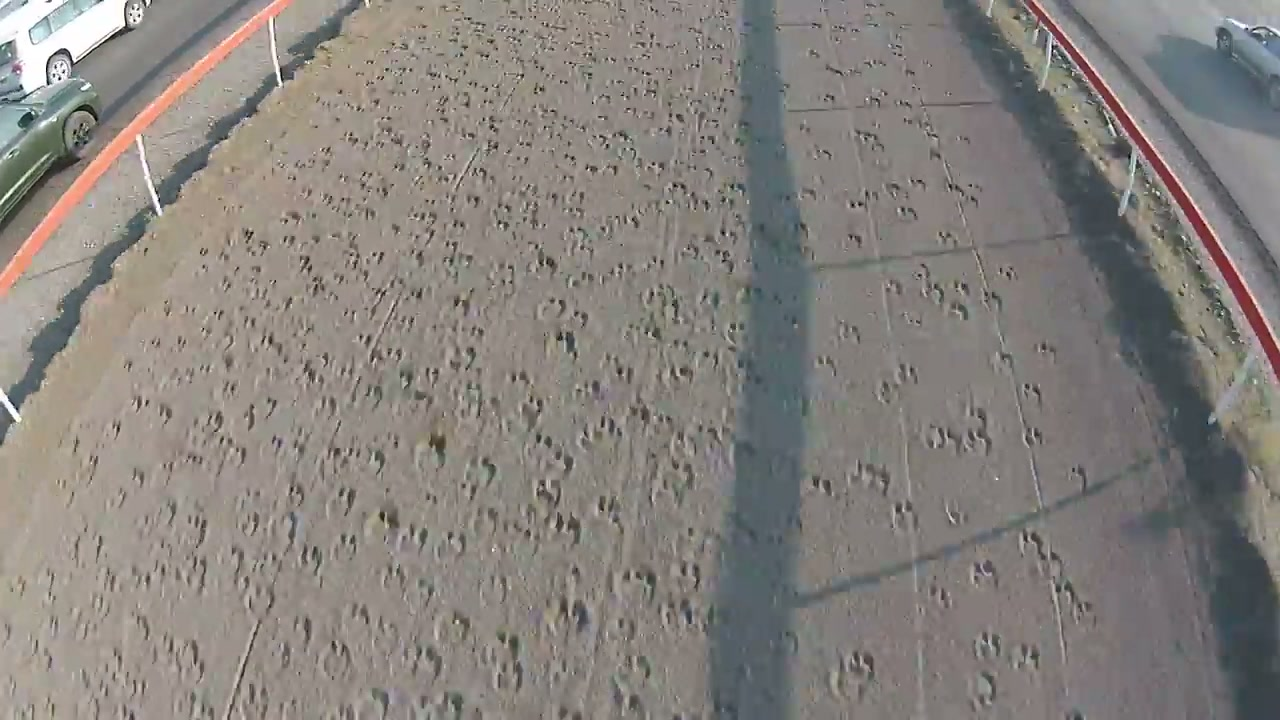animal_foot_print: (97, 38, 748, 719), (824, 0, 1119, 718)
